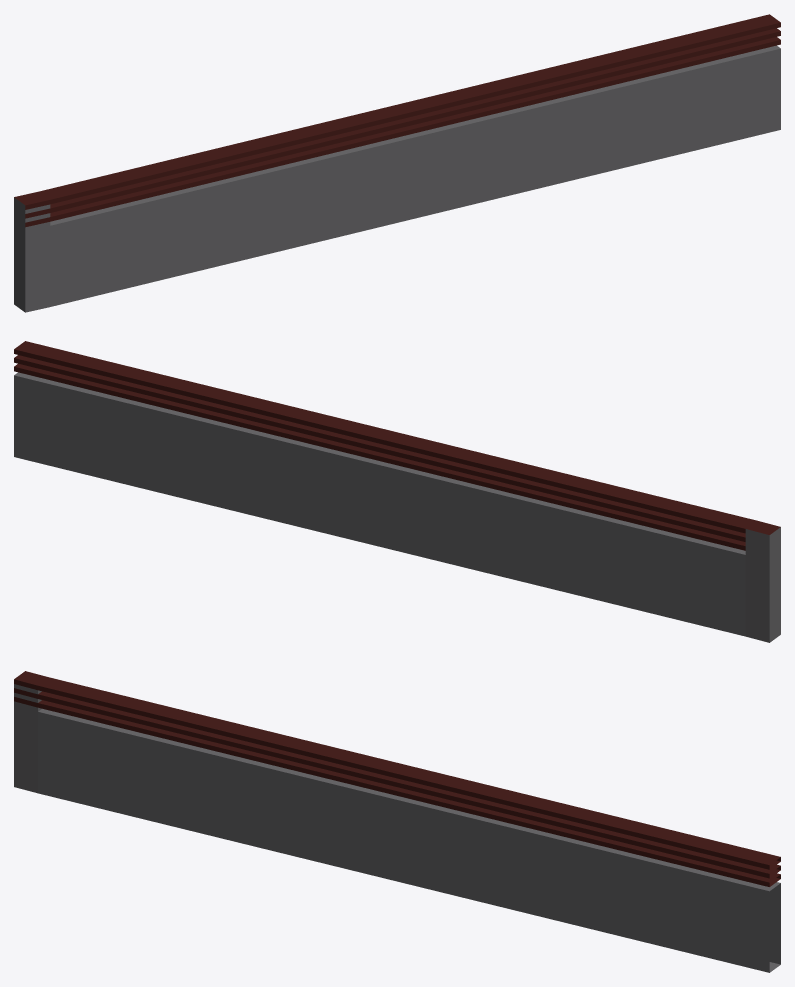
Rendered from Tembok Sekolah.fbx.
3 renders of one model, top to bottom at view 1: azimuth 30°, elevation 25°; view 2: azimuth 150°, elevation 25°; view 3: azimuth 330°, elevation 25°, orthographic.
Parts seen in each view (by area): view 1: Tembok; view 2: Tembok; view 3: Tembok.
Part boxes in pixels (box(x1,y1,x2,y2)): Tembok: box(14, 14, 780, 312); Tembok: box(14, 341, 780, 642); Tembok: box(14, 671, 780, 972).
Size of the model in its own units: 2983 by 405 by 88.34.
